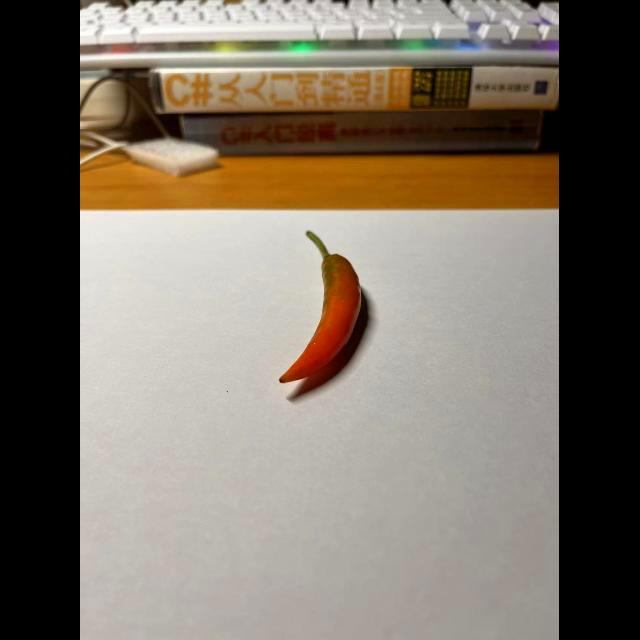chili_pepper: (268, 226, 380, 394)
